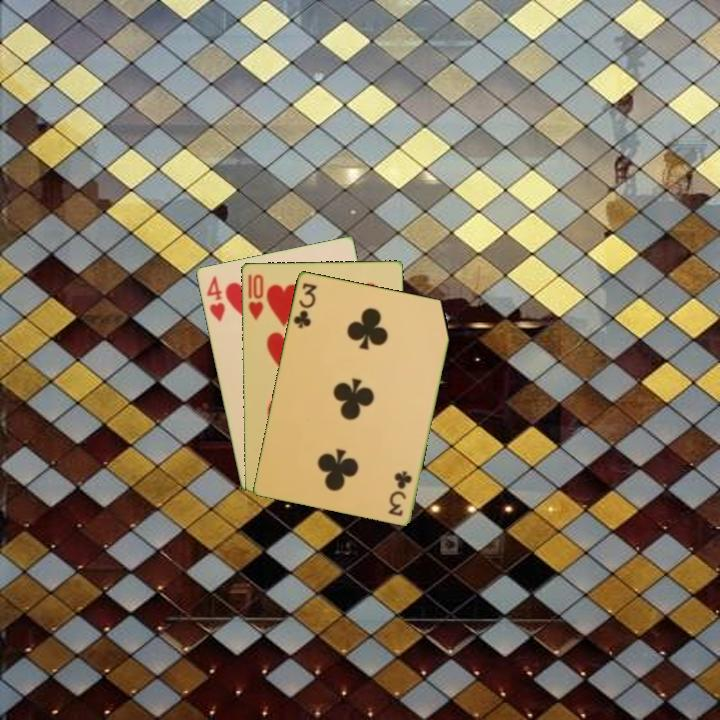10h: (244, 270, 266, 323)
3c: (289, 279, 319, 331), (385, 467, 415, 519)
4h: (203, 273, 228, 325)
